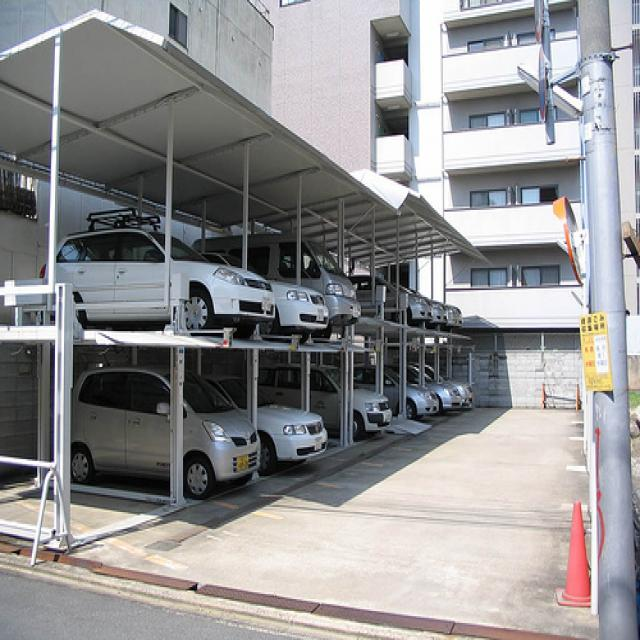Car: (61, 372, 262, 495), (40, 226, 276, 319), (202, 232, 362, 326), (185, 380, 329, 468), (199, 273, 329, 332)
